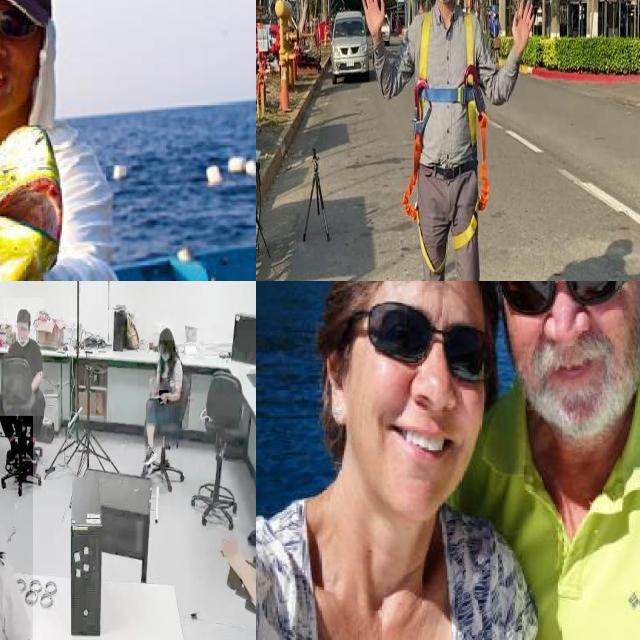Harness: (403, 11, 490, 276)
face_nomask: (363, 294, 476, 473), (495, 281, 632, 386), (0, 0, 38, 101), (17, 323, 29, 343)
glasses: (366, 296, 499, 391), (491, 281, 638, 311), (0, 0, 37, 32)
hand_noglove: (159, 390, 169, 404)
head_nohelmet: (158, 326, 174, 341), (16, 308, 30, 322)
person: (256, 281, 475, 640), (450, 281, 640, 640), (137, 327, 184, 471), (4, 298, 44, 417)
shoes: (141, 441, 158, 472), (25, 440, 39, 466)
